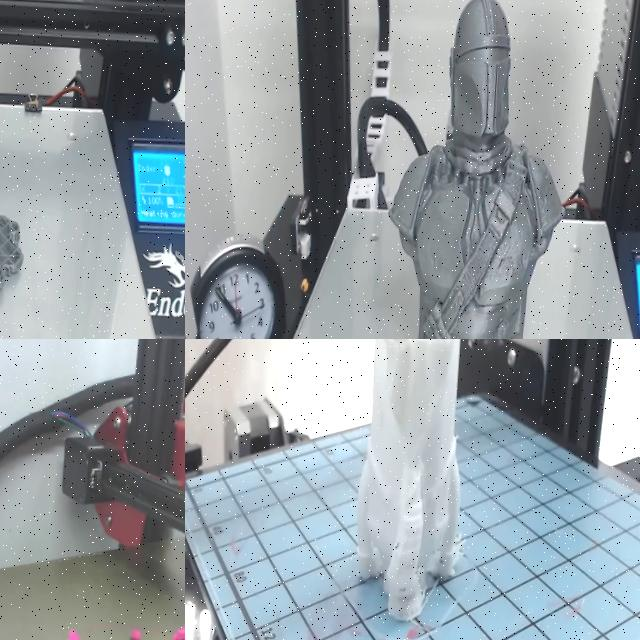spaghetti: (172, 624, 185, 640), (67, 630, 82, 640), (130, 629, 141, 640)
